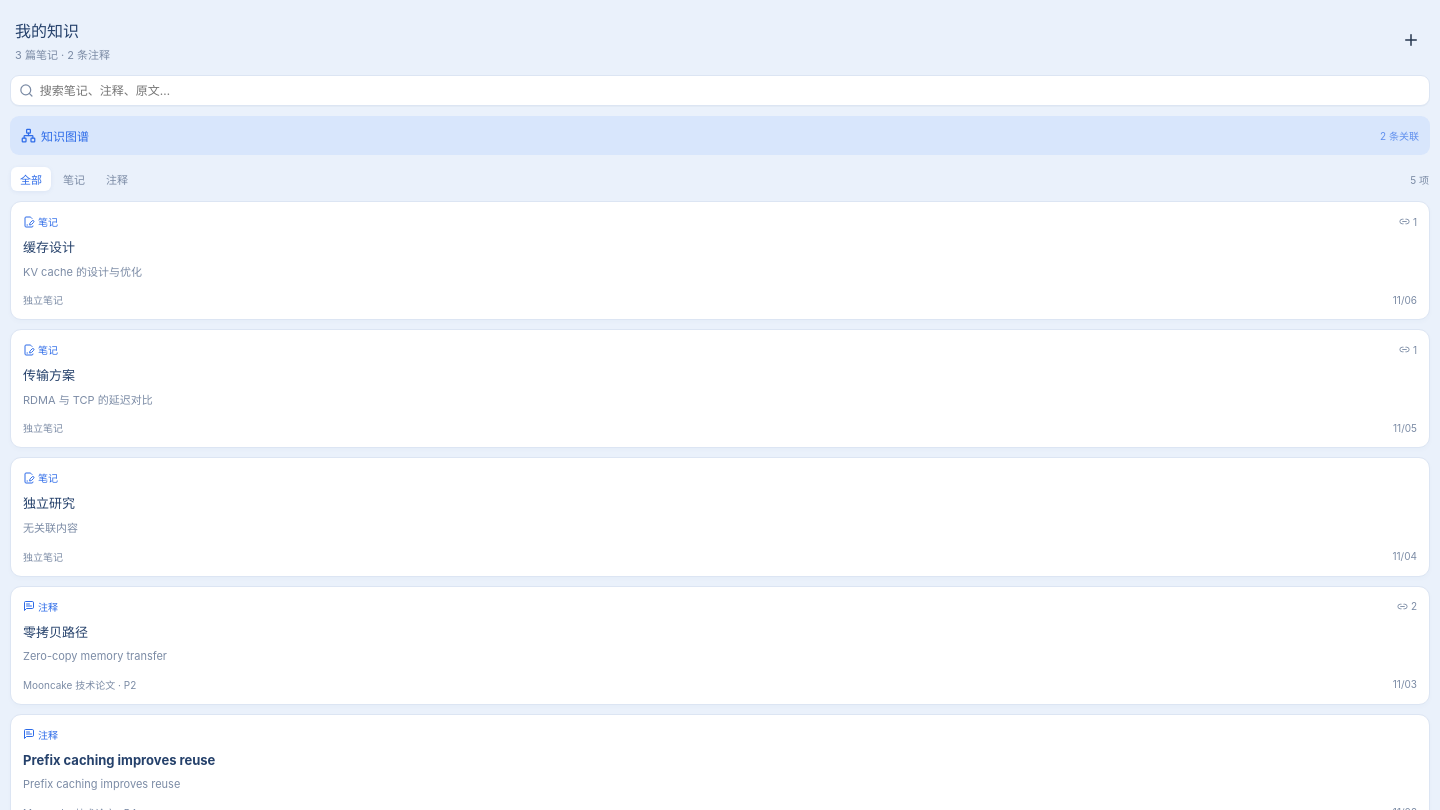
Scenario: shows model suggestions and persists only the relationship explicitly accepted
Later steps or results of the test are not shown.
What coordinates should you click on to do the following:
click the text "缓存设计"
I would click on:
 (49, 247)
Its box is [23,239,75,255].
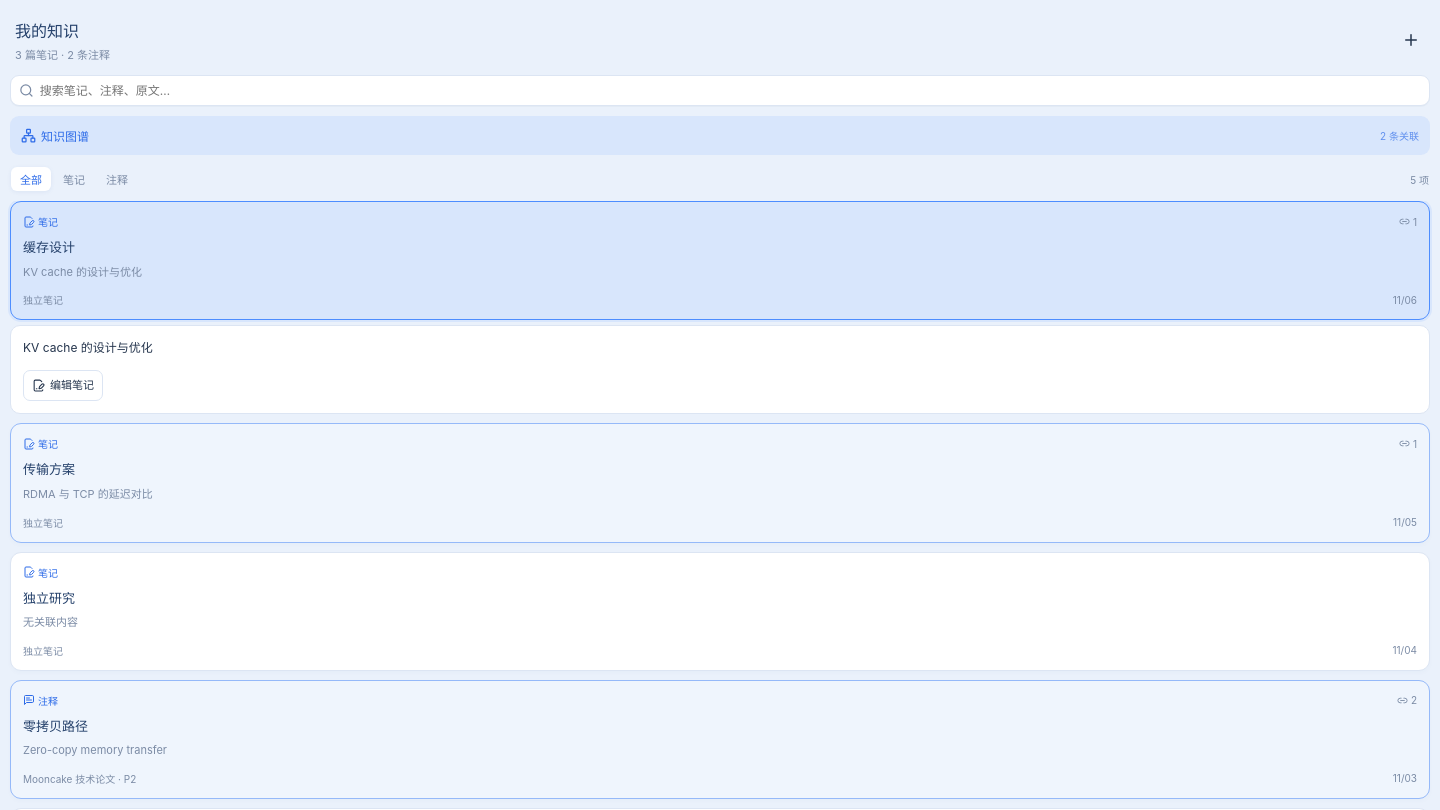
What coordinates should you click on to do the following:
click the button "知识图谱 2 条关联"
I would click on:
 (65, 136)
Its box is [10,116,1430,155].
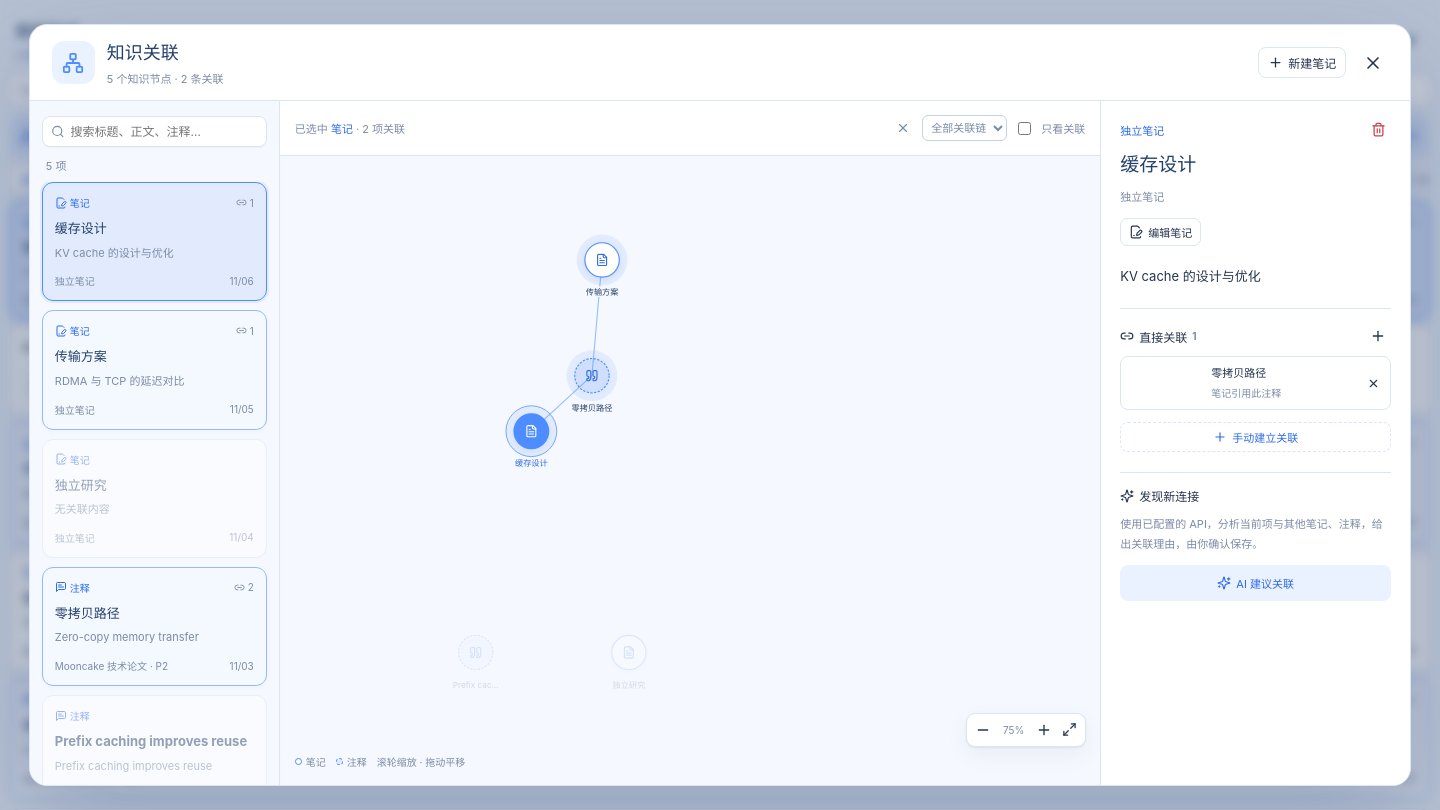
What coordinates should you click on to do the following:
click the button "AI 建议关联"
I would click on:
 (1256, 583)
Its box is [1120,565,1391,601].
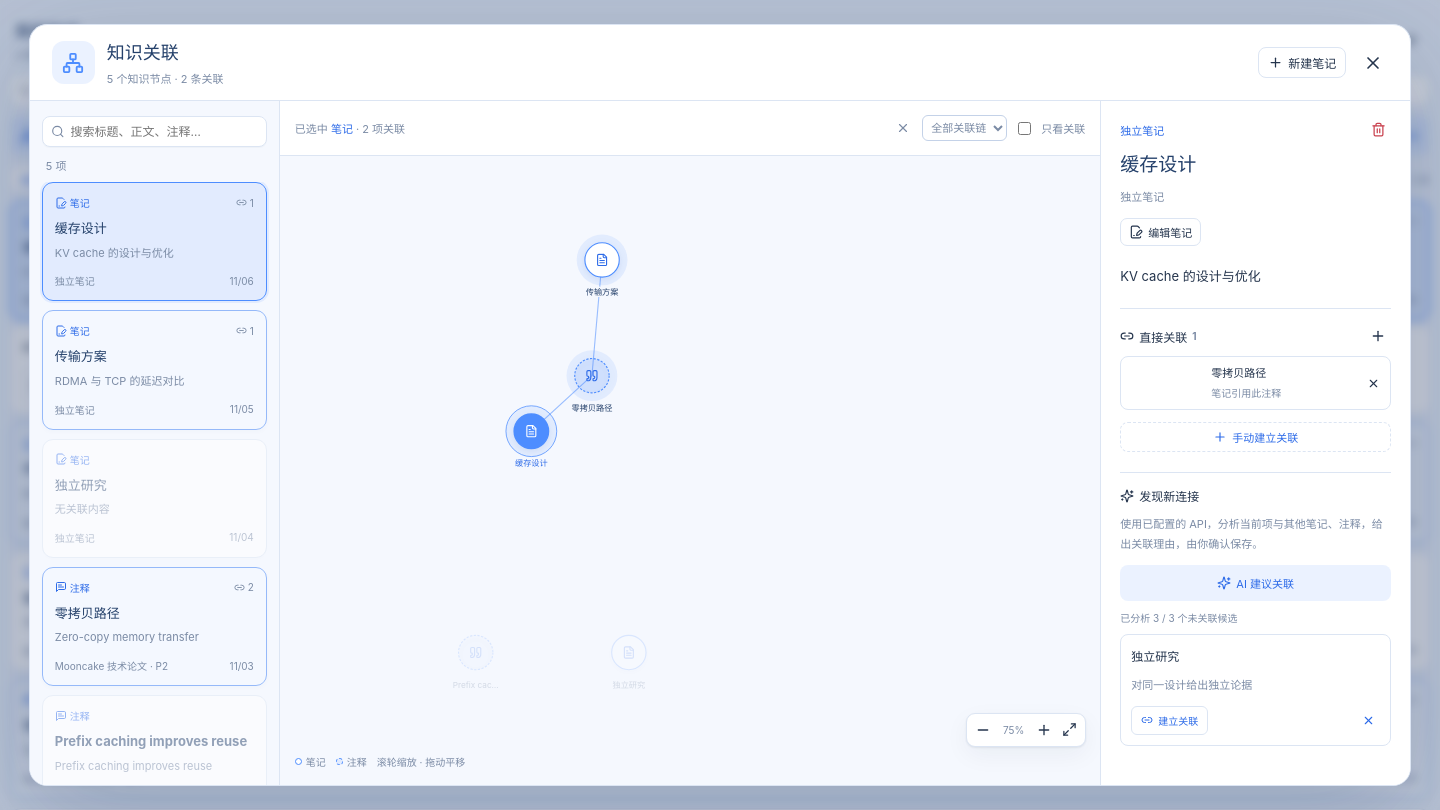
Expected: the text "对同一设计给出独立论据" is shown, [1131,678,1252,692]
